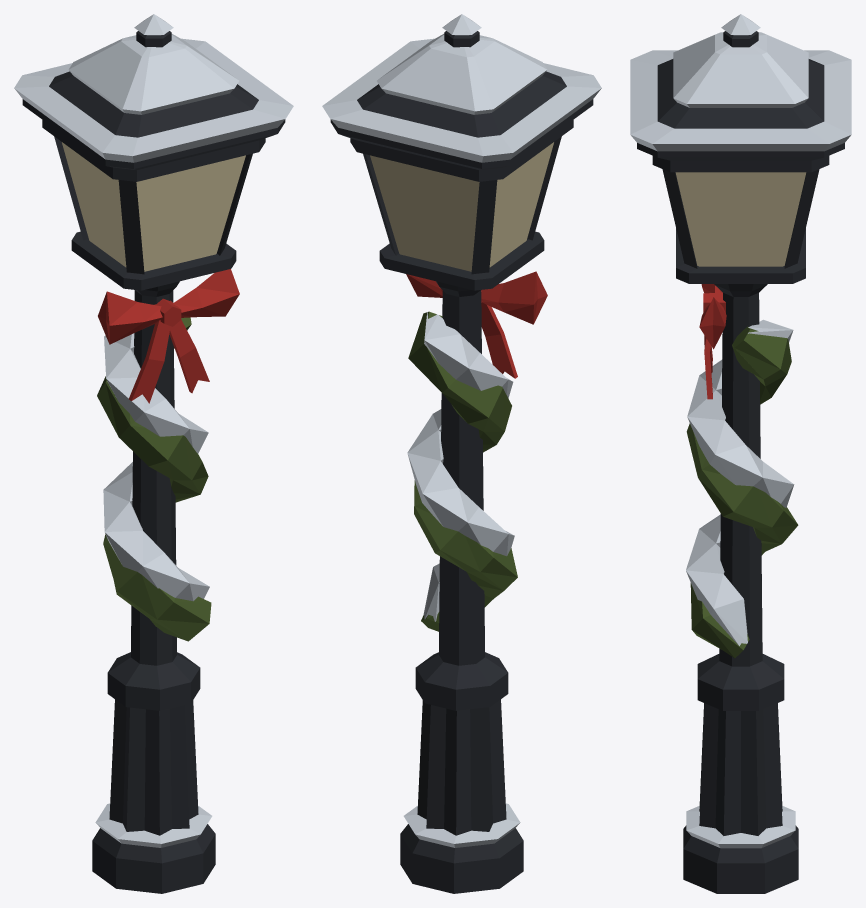
File: garland-lamp-post-af02f0.glb
The picture shows the model from 3 angles, left to right: view 1: azimuth 30°, elevation 25°; view 2: azimuth 150°, elevation 25°; view 3: azimuth 270°, elevation 25°; orthographic projection.
Visible parts, largest first — view 1: lamp-post, bow-tails-mesh; view 2: lamp-post, bow-tails-mesh; view 3: lamp-post.
Boxes of the visible parts, x1=… form: lamp-post: x1=14, y1=14, x2=293, y2=893; bow-tails-mesh: x1=129, y1=320, x2=209, y2=403; lamp-post: x1=322, y1=14, x2=601, y2=893; bow-tails-mesh: x1=481, y1=302, x2=517, y2=378; lamp-post: x1=630, y1=14, x2=851, y2=893.
Bounding box in the file's own units: 0.8512 × 3.63 × 0.8512.
